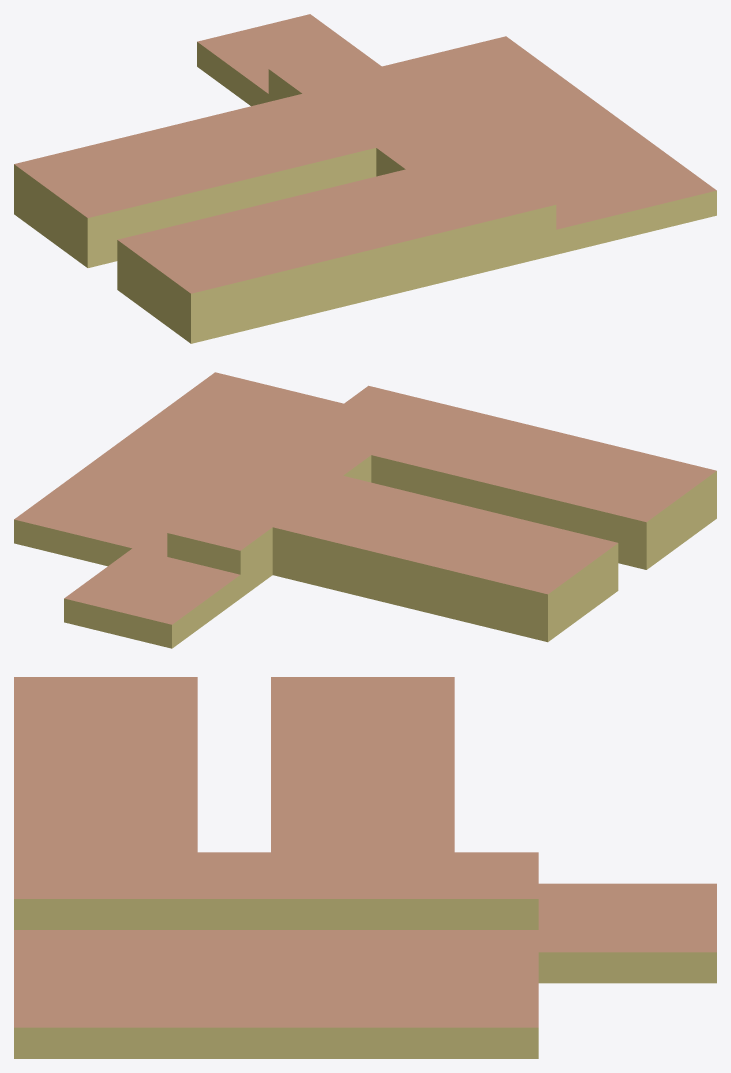
File: floorplan_school.gltf
3 views of the same model, one above another, from view 1: azimuth 30°, elevation 25°; view 2: azimuth 150°, elevation 25°; view 3: azimuth 270°, elevation 25° (orthographic). The views are drawn at different scales.
Parts seen in each view (by area): view 1: Face 214, Face 112, Face 174, Face 188, Face 208, Face 194, Face 119, Face 131, Face 97, Face 212, Face 176, Face 79 (+29 smaller); view 2: Face 214, Face 112, Face 97, Face 208, Face 174, Face 188, Face 194, Face 119, Face 131, Face 198, Face 192, Face 125 (+31 smaller); view 3: Face 214, Face 112, Face 97, Face 222, Face 119, Face 174, Face 188, Face 194, Face 208, Face 131, Face 103, Face 113 (+17 smaller).
Boxes of the visible parts, box(x1,y1,x2,y2) form: Face 214: box(303, 75, 524, 199); Face 112: box(519, 136, 716, 220); Face 174: box(225, 200, 479, 277); Face 188: box(183, 169, 436, 246); Face 208: box(122, 124, 375, 201); Face 194: box(80, 94, 333, 170); Face 119: box(462, 95, 642, 166); Face 131: box(382, 36, 558, 104); Face 97: box(197, 14, 381, 93); Face 212: box(153, 148, 376, 226); Face 176: box(257, 223, 479, 302); Face 79: box(257, 248, 479, 327); Face 214: box(200, 408, 410, 527); Face 112: box(145, 372, 333, 452); Face 97: box(64, 548, 239, 624); Face 208: box(313, 475, 555, 549); Face 174: box(412, 403, 653, 477); Face 188: box(372, 433, 613, 506); Face 194: box(273, 505, 514, 578); Face 119: box(91, 424, 262, 492); Face 131: box(14, 482, 182, 548); Face 198: box(272, 527, 485, 602); Face 192: box(371, 455, 583, 530); Face 125: box(65, 463, 208, 511); Face 214: box(92, 852, 454, 898); Face 112: box(14, 952, 197, 1027); Face 97: box(538, 883, 716, 952); Face 222: box(92, 899, 454, 929); Face 119: box(197, 952, 339, 1027); Face 174: box(14, 717, 92, 852); Face 188: box(119, 717, 197, 852); Face 194: box(376, 717, 454, 852); Face 208: box(271, 717, 349, 852); Face 131: box(407, 952, 538, 1027); Face 103: box(92, 930, 454, 952); Face 113: box(14, 1027, 197, 1058).
Bounding box in the file's own units: 288 × 26.25 × 268.
